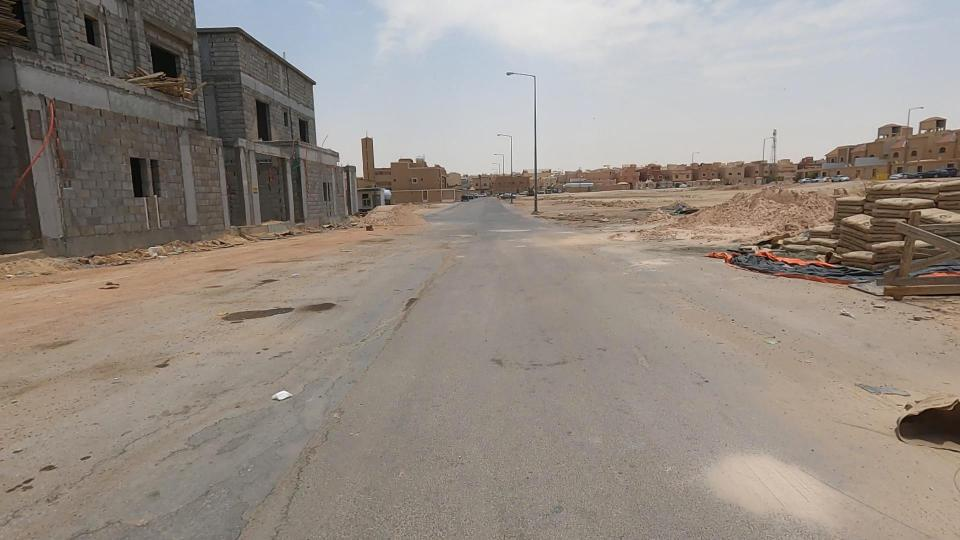GARBAGE: (665, 209, 880, 309), (90, 199, 253, 294), (237, 349, 331, 437), (638, 176, 726, 236)
POTHOLES: (38, 373, 432, 540), (291, 239, 506, 404), (324, 175, 470, 268)
